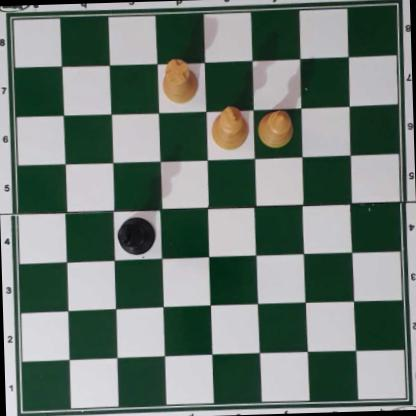black-king: (115, 217, 157, 257)
white-bishop: (257, 108, 293, 148)
white-king: (209, 104, 249, 151)
white-rook: (162, 59, 200, 103)
